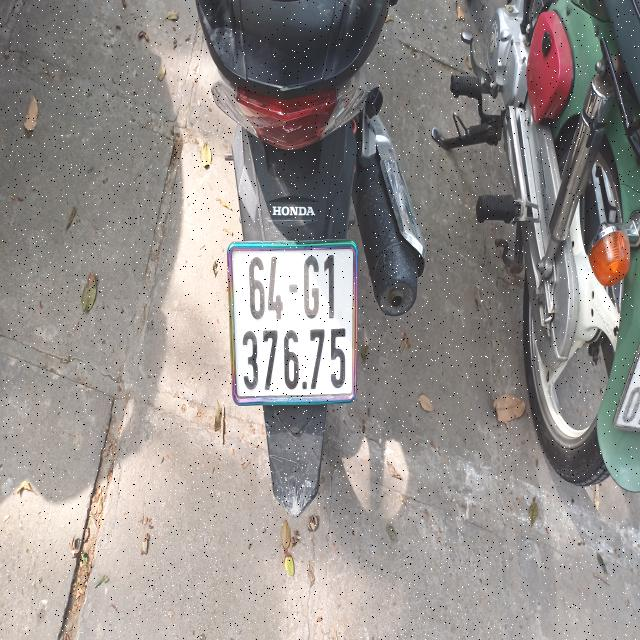1: (322, 250, 340, 322)
3: (239, 327, 259, 388)
4: (268, 254, 284, 318)
5: (328, 326, 347, 388)
6: (247, 254, 266, 320), (282, 326, 300, 391)
7: (261, 326, 278, 393), (308, 323, 325, 390)
G: (302, 250, 322, 324)
